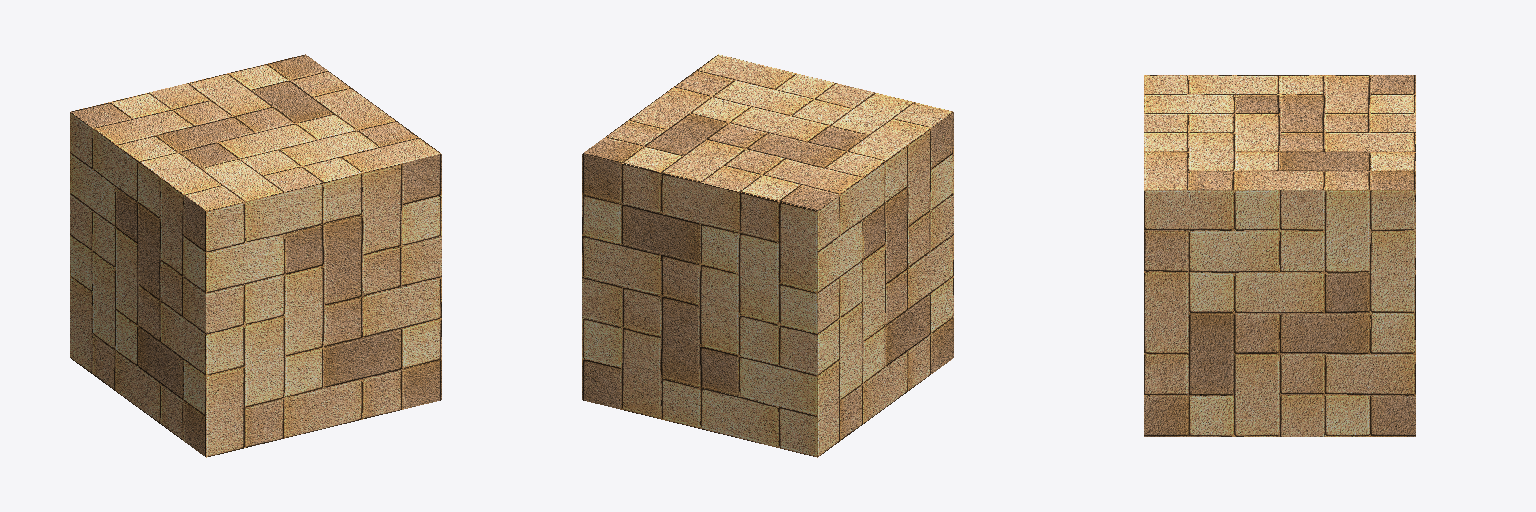
3 renders of one model, left to right at view 1: azimuth 30°, elevation 25°; view 2: azimuth 150°, elevation 25°; view 3: azimuth 270°, elevation 25°, orthographic.
Parts seen in each view (by area): view 1: Cube; view 2: Cube; view 3: Cube.
Part boxes in pixels (x1,y1,x2,y2): Cube: (70, 54, 441, 457); Cube: (582, 54, 953, 457); Cube: (1144, 75, 1415, 436).
Size of the model in its own units: 2 by 2 by 2.
Materials: 1 (1 with a texture image).